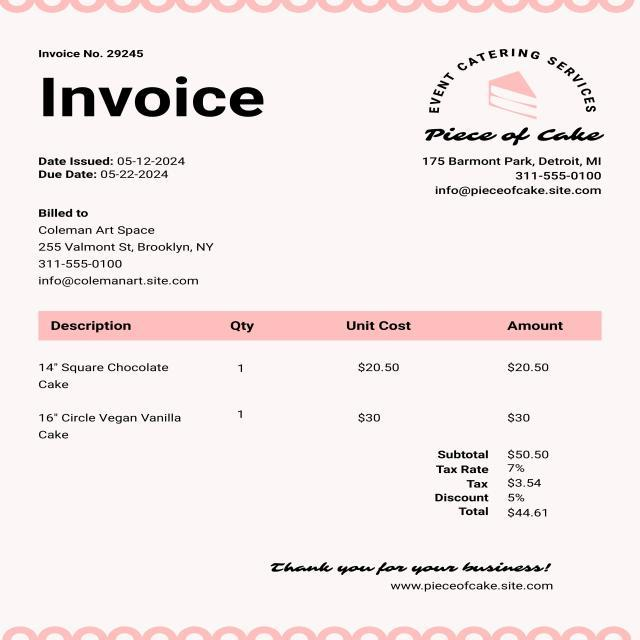customer_address: (34, 240, 221, 255)
customer_name: (35, 219, 159, 237)
due_date: (99, 168, 174, 183)
invoice_date: (113, 152, 197, 167)
invoice_number: (102, 45, 148, 60)
invoice_subtotal: (504, 443, 552, 462)
invoice_total: (504, 505, 556, 522)
item_description: (34, 358, 198, 446)
item_quantity: (229, 357, 256, 427)
item_total_price: (501, 349, 554, 428)
item_unit_price: (352, 357, 402, 432)
supplier_address: (420, 150, 605, 169)
supplier_name: (418, 118, 609, 150)
tax_amount: (505, 473, 544, 491)
tax_rate: (506, 461, 528, 475)
